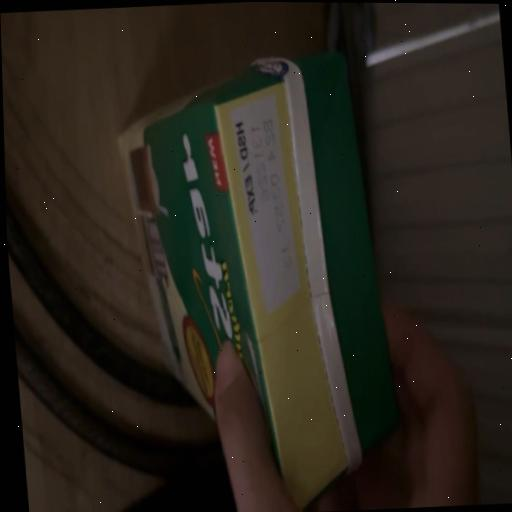ly_giay: (119, 54, 395, 508)
